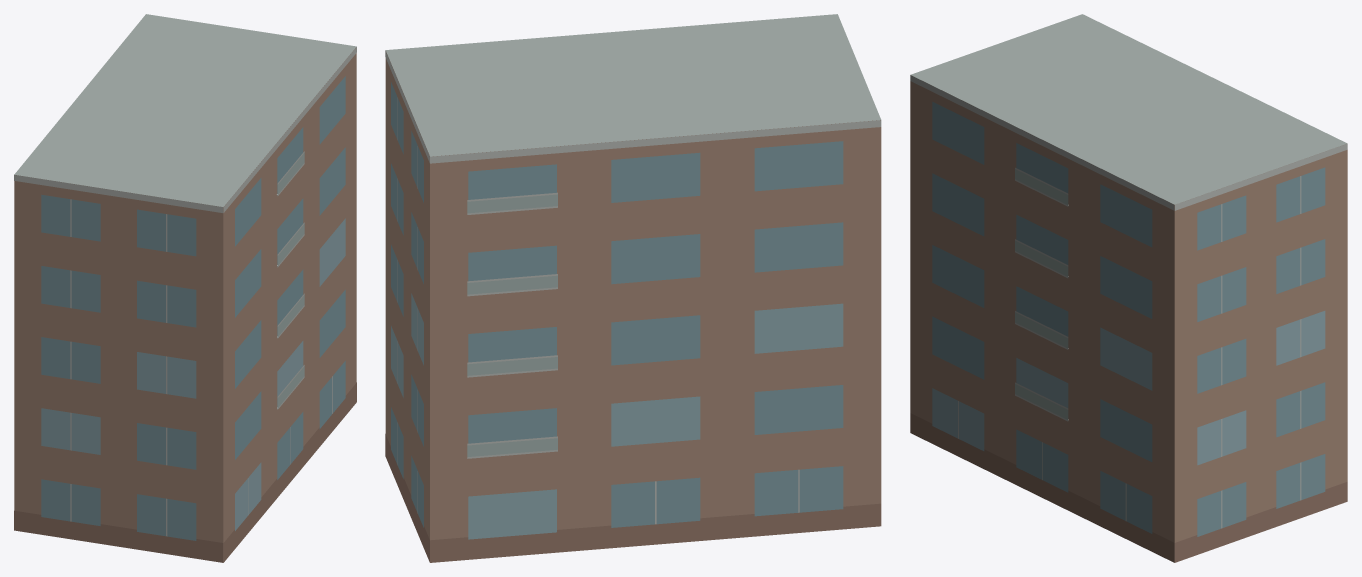
Rendered from survey-upis-32534971.glb.
3 renders of one model, left to right at view 1: azimuth 30°, elevation 25°; view 2: azimuth 150°, elevation 25°; view 3: azimuth 270°, elevation 25°, orthographic. The views are drawn at different scales.
Parts seen in each view (by area): view 1: survey-upis-32534971.tmp; view 2: survey-upis-32534971.tmp; view 3: survey-upis-32534971.tmp.
Boxes of the visible parts, x1,y1,x2,y2 form: survey-upis-32534971.tmp: (14,14,356,562); survey-upis-32534971.tmp: (385,14,881,562); survey-upis-32534971.tmp: (910,14,1347,562).
Size of the model in its own units: 16.23 by 14.2 by 15.73.
